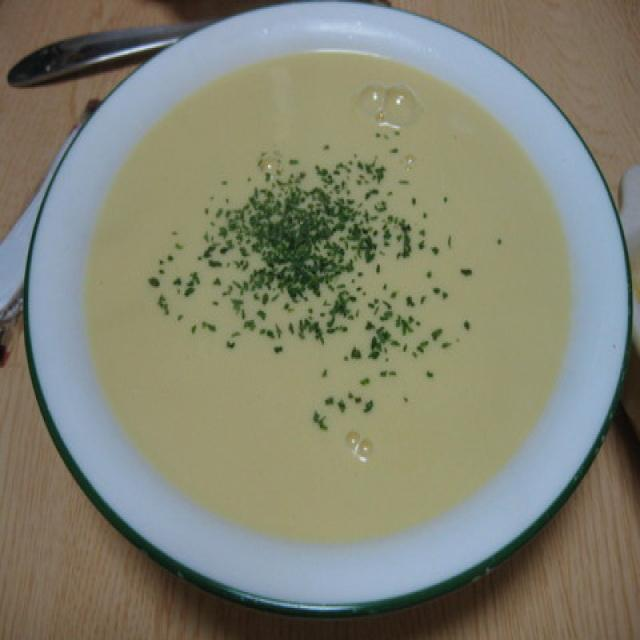汤锅炖物: (20, 0, 637, 610)
